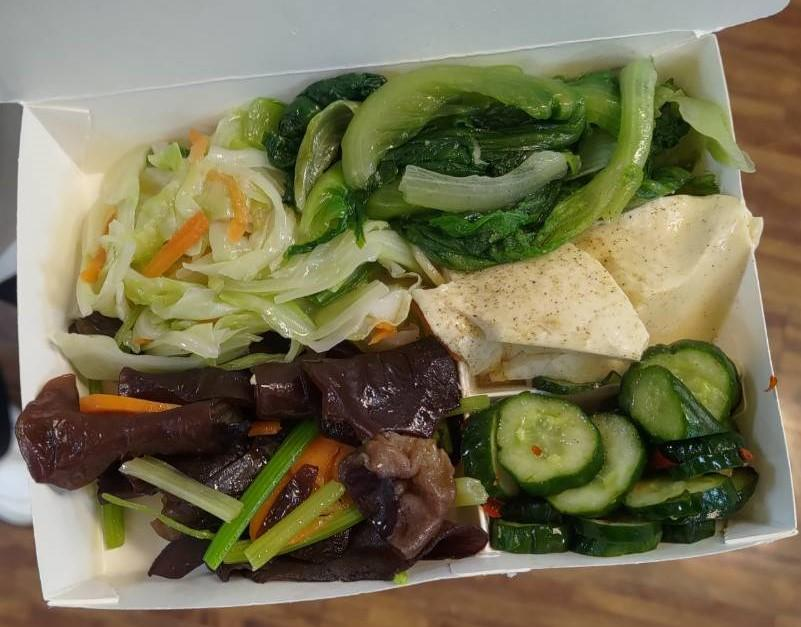big grilled chicken leg: (0, 19, 798, 610)
braised fish fillet: (20, 355, 470, 590), (266, 62, 731, 243), (60, 119, 419, 346), (430, 187, 763, 393), (479, 343, 759, 556)
